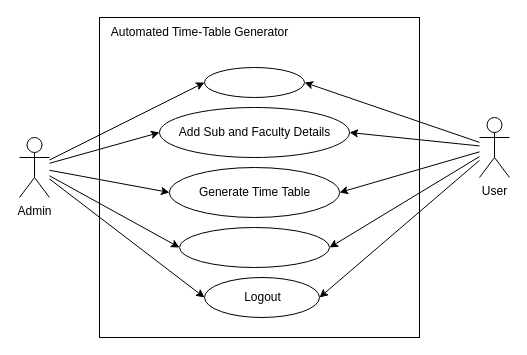
Some shapes in this 527 by 355 pixel diagram are drawn without their labels. The centre of each missing label's shape, as x and y in pixels:
"Login" goes at (x=254, y=82).
"View Time Table" goes at (x=254, y=247).
